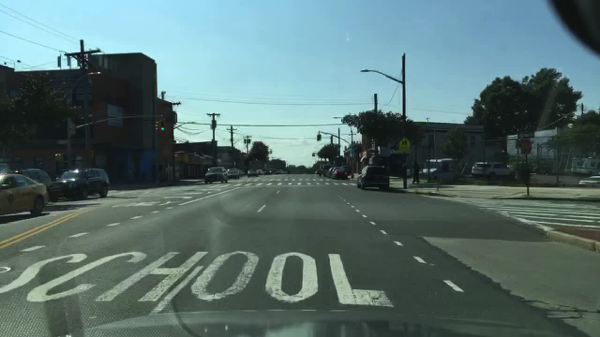car: (0, 172, 48, 217), (48, 169, 110, 202), (11, 169, 52, 195), (419, 157, 459, 181), (356, 165, 389, 190), (471, 162, 515, 179), (571, 155, 599, 176), (205, 166, 229, 184), (578, 176, 599, 186), (330, 167, 346, 179), (321, 164, 334, 176), (227, 170, 240, 180), (325, 166, 337, 176), (247, 169, 259, 177), (256, 169, 263, 176), (239, 170, 246, 177), (227, 169, 239, 173), (315, 169, 322, 175), (275, 170, 283, 175), (264, 170, 272, 174), (283, 171, 288, 174)
person: (411, 160, 419, 184)
traffic light: (55, 153, 67, 162), (70, 123, 76, 135), (155, 120, 159, 132), (161, 120, 165, 130), (91, 149, 94, 158), (318, 134, 321, 141), (316, 135, 318, 141), (311, 154, 315, 156), (270, 150, 272, 154)
traffic sign: (399, 138, 410, 154), (521, 140, 531, 154), (516, 132, 534, 139), (370, 150, 379, 153)
